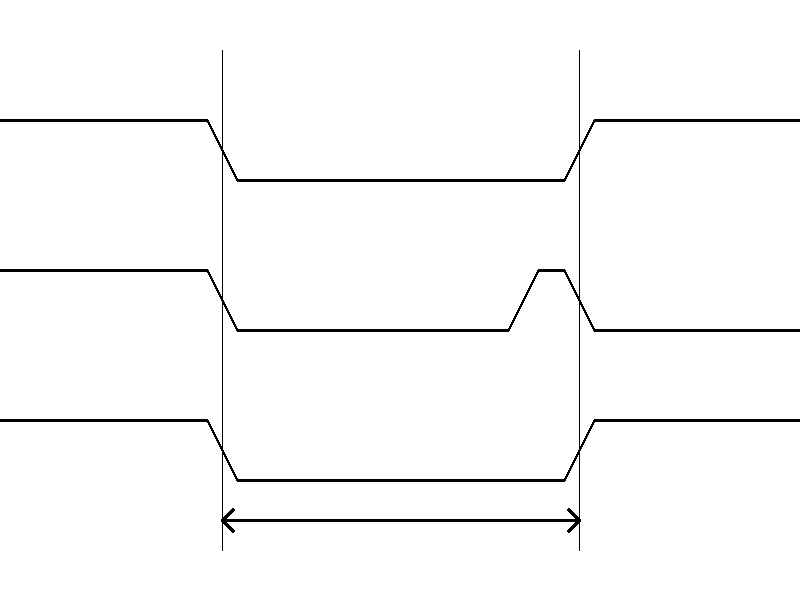double_arrow: (222, 505, 579, 535)
